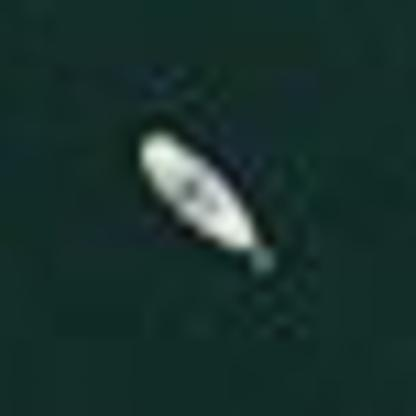ship: (124, 121, 283, 283)
